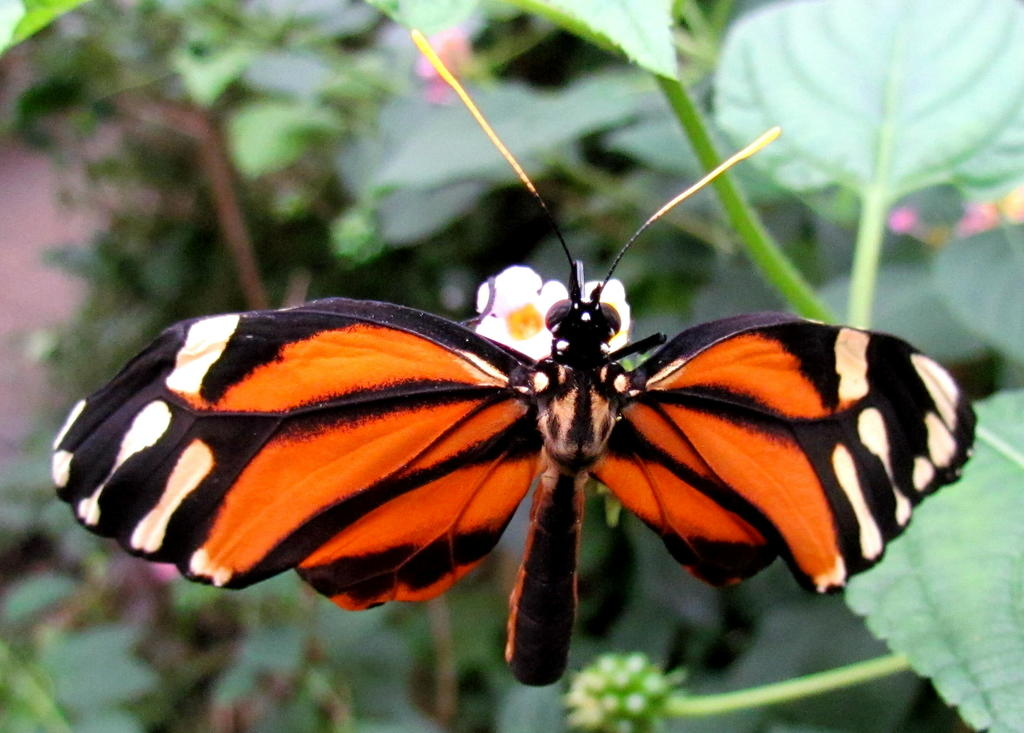Butterfly: (52, 249, 972, 691)
